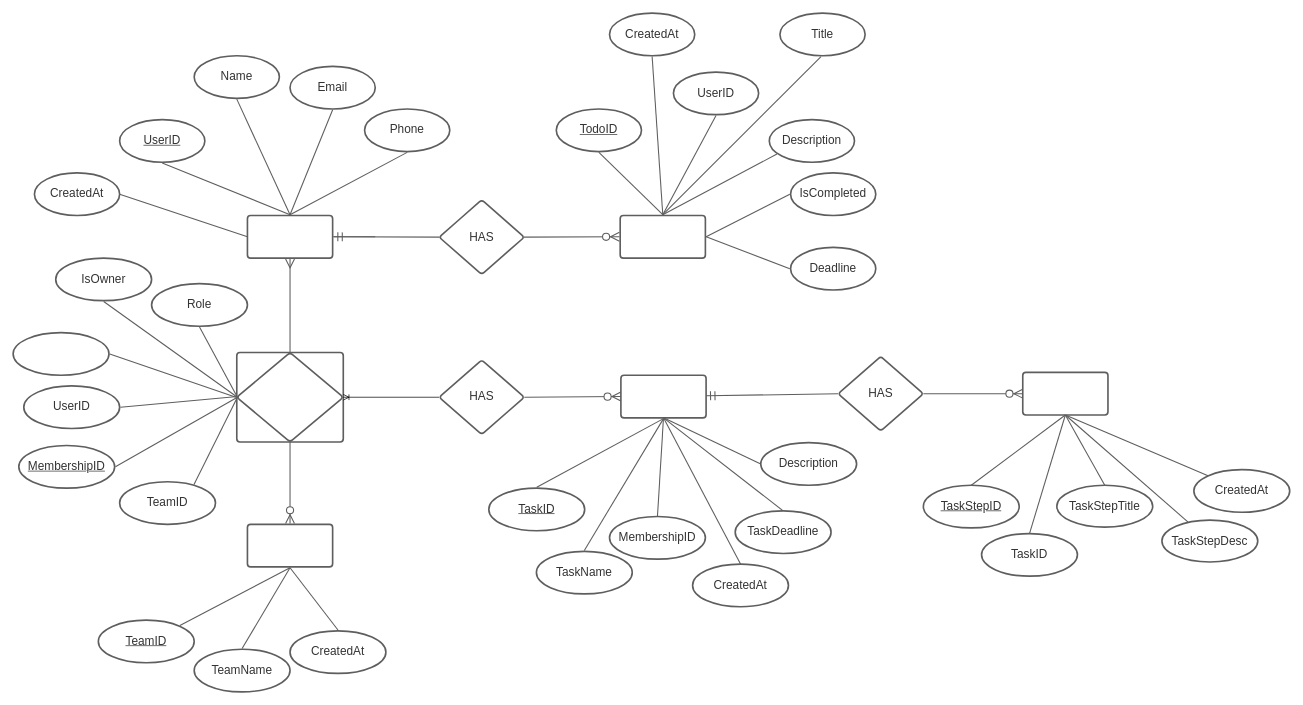
This 1303x705 diagram has some shape labels left out. Here are the shapes that lost their labels. From the top down, the box of each, then its label:
(246, 214, 333, 259): User
(619, 214, 706, 259): Todo
(12, 331, 109, 376): JoiningDate
(236, 351, 344, 442): Membership
(620, 374, 707, 418): Task
(1022, 371, 1108, 415): Task Steps
(246, 523, 333, 567): Team
